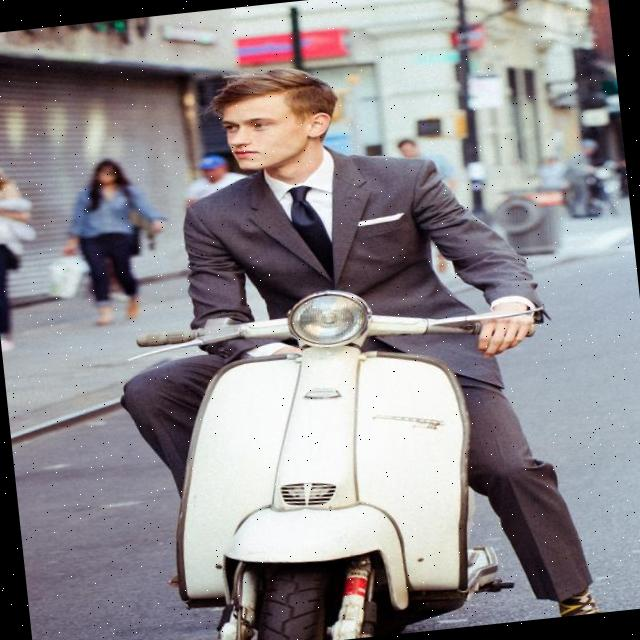No helmet: (198, 58, 348, 189)
